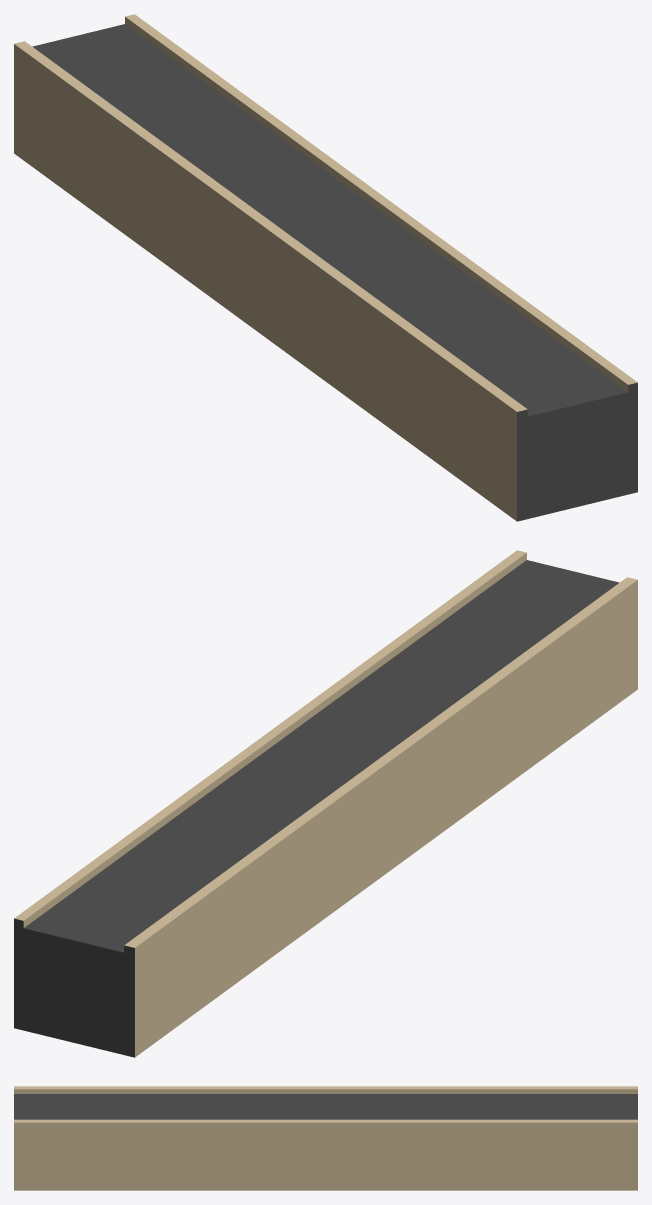
Rendered from EstradaCentral.fbx.
3 renders of one model, top to bottom at view 1: azimuth 30°, elevation 25°; view 2: azimuth 150°, elevation 25°; view 3: azimuth 270°, elevation 25°, orthographic. The views are drawn at different scales.
Parts seen in each view (by area): view 1: Cube.018; view 2: Cube.018; view 3: Cube.018.
Part boxes in pixels (<box>): Cube.018: <box>14,14,637,521</box>; Cube.018: <box>14,550,637,1057</box>; Cube.018: <box>14,1086,637,1190</box>.
Size of the model in its own units: 33.92 by 29.42 by 245.
